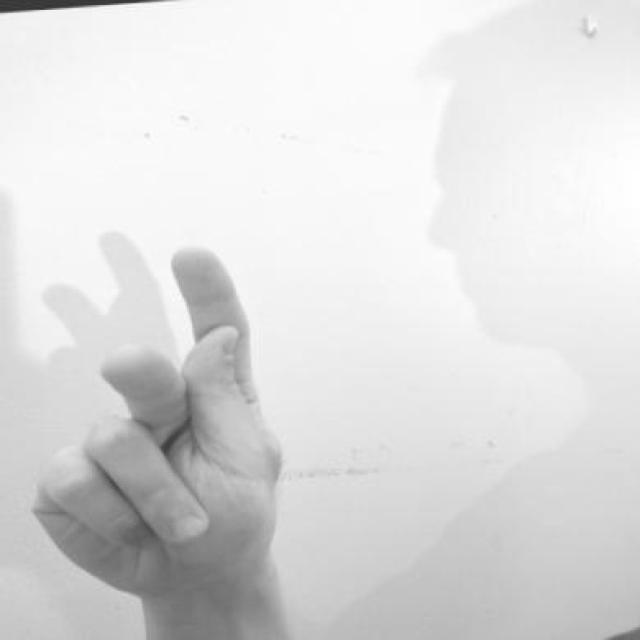K: (7, 229, 300, 616)
